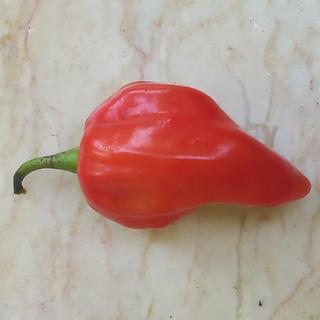Grade-A: (72, 75, 314, 233)
